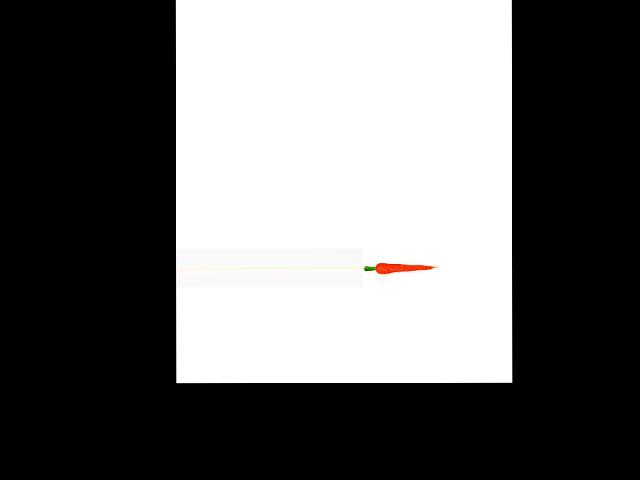carrot: (374, 260, 439, 277)
